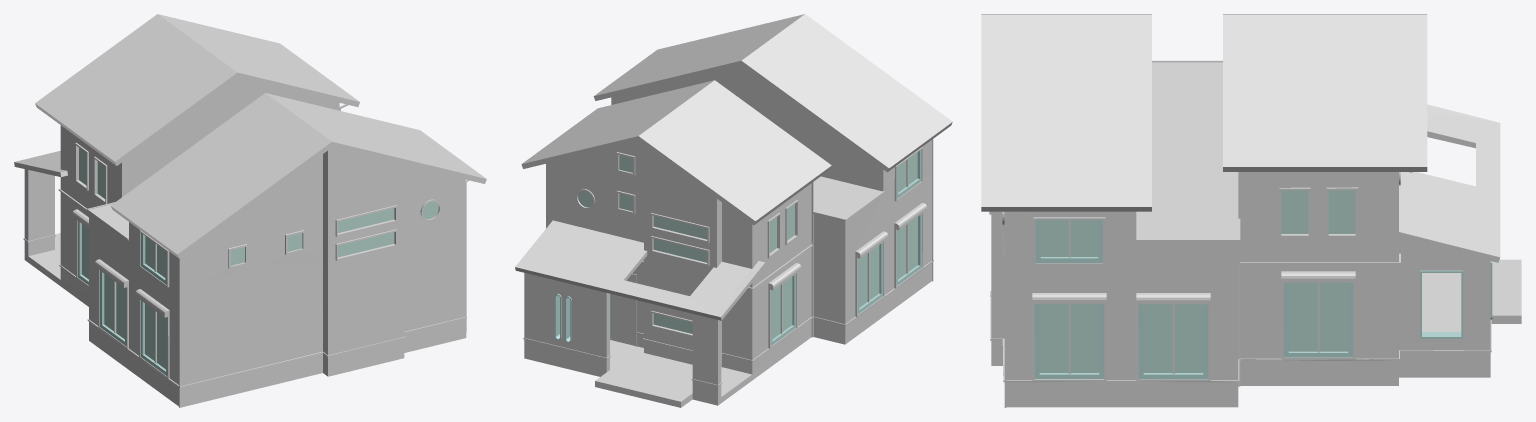
File: JapaneseHouse.fbx
The picture shows the model from 3 angles, left to right: view 1: azimuth 30°, elevation 25°; view 2: azimuth 150°, elevation 25°; view 3: azimuth 270°, elevation 25°; orthographic projection. The views are drawn at different scales.
Parts seen in each view (by area): view 1: Cube; view 2: Cube; view 3: Cube.
Boxes of the visible parts, x1,y1,x2,y2 form: Cube: (14,14,486,407); Cube: (515,14,952,407); Cube: (981,14,1521,407).
Bounding box in the file's own units: 1486 × 1092 × 1759.
